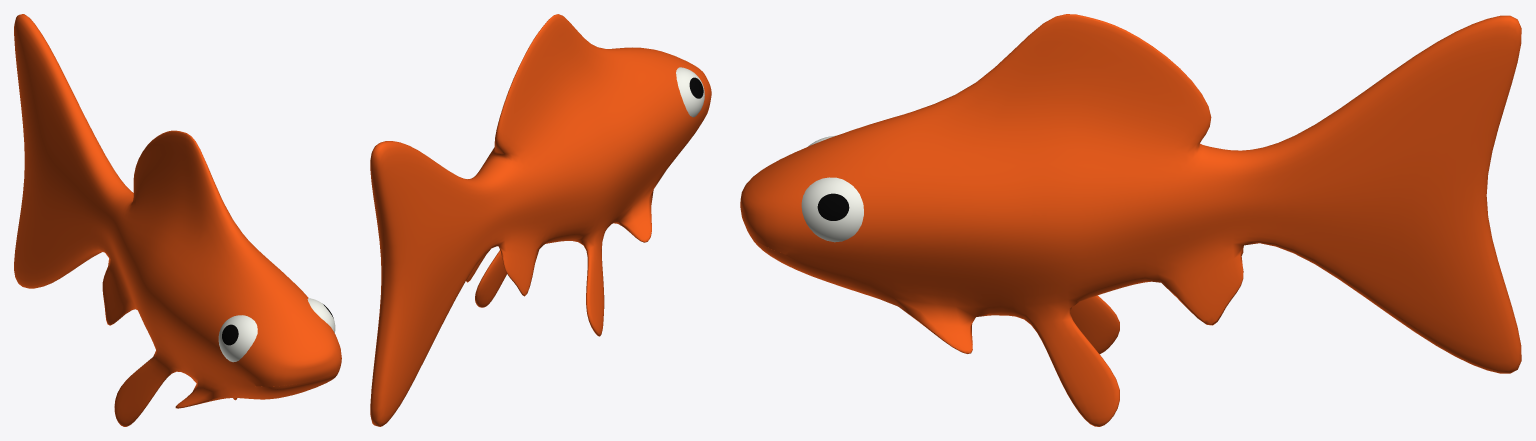
Rendered from Fish.glb.
3 renders of one model, left to right at view 1: azimuth 30°, elevation 25°; view 2: azimuth 150°, elevation 25°; view 3: azimuth 270°, elevation 25°, orthographic. The views are drawn at different scales.
Visible parts, largest first — view 1: aa, ff; view 2: aa, ff; view 3: aa, ff.
Part boxes in pixels (box(x1,y1,x2,y2)): aa: box(14, 14, 341, 426); ff: box(218, 298, 335, 362); aa: box(370, 14, 711, 426); ff: box(676, 67, 704, 117); aa: box(740, 14, 1521, 426); ff: box(801, 135, 863, 242).
Size of the model in its own units: 1 by 2.34 by 4.4.
